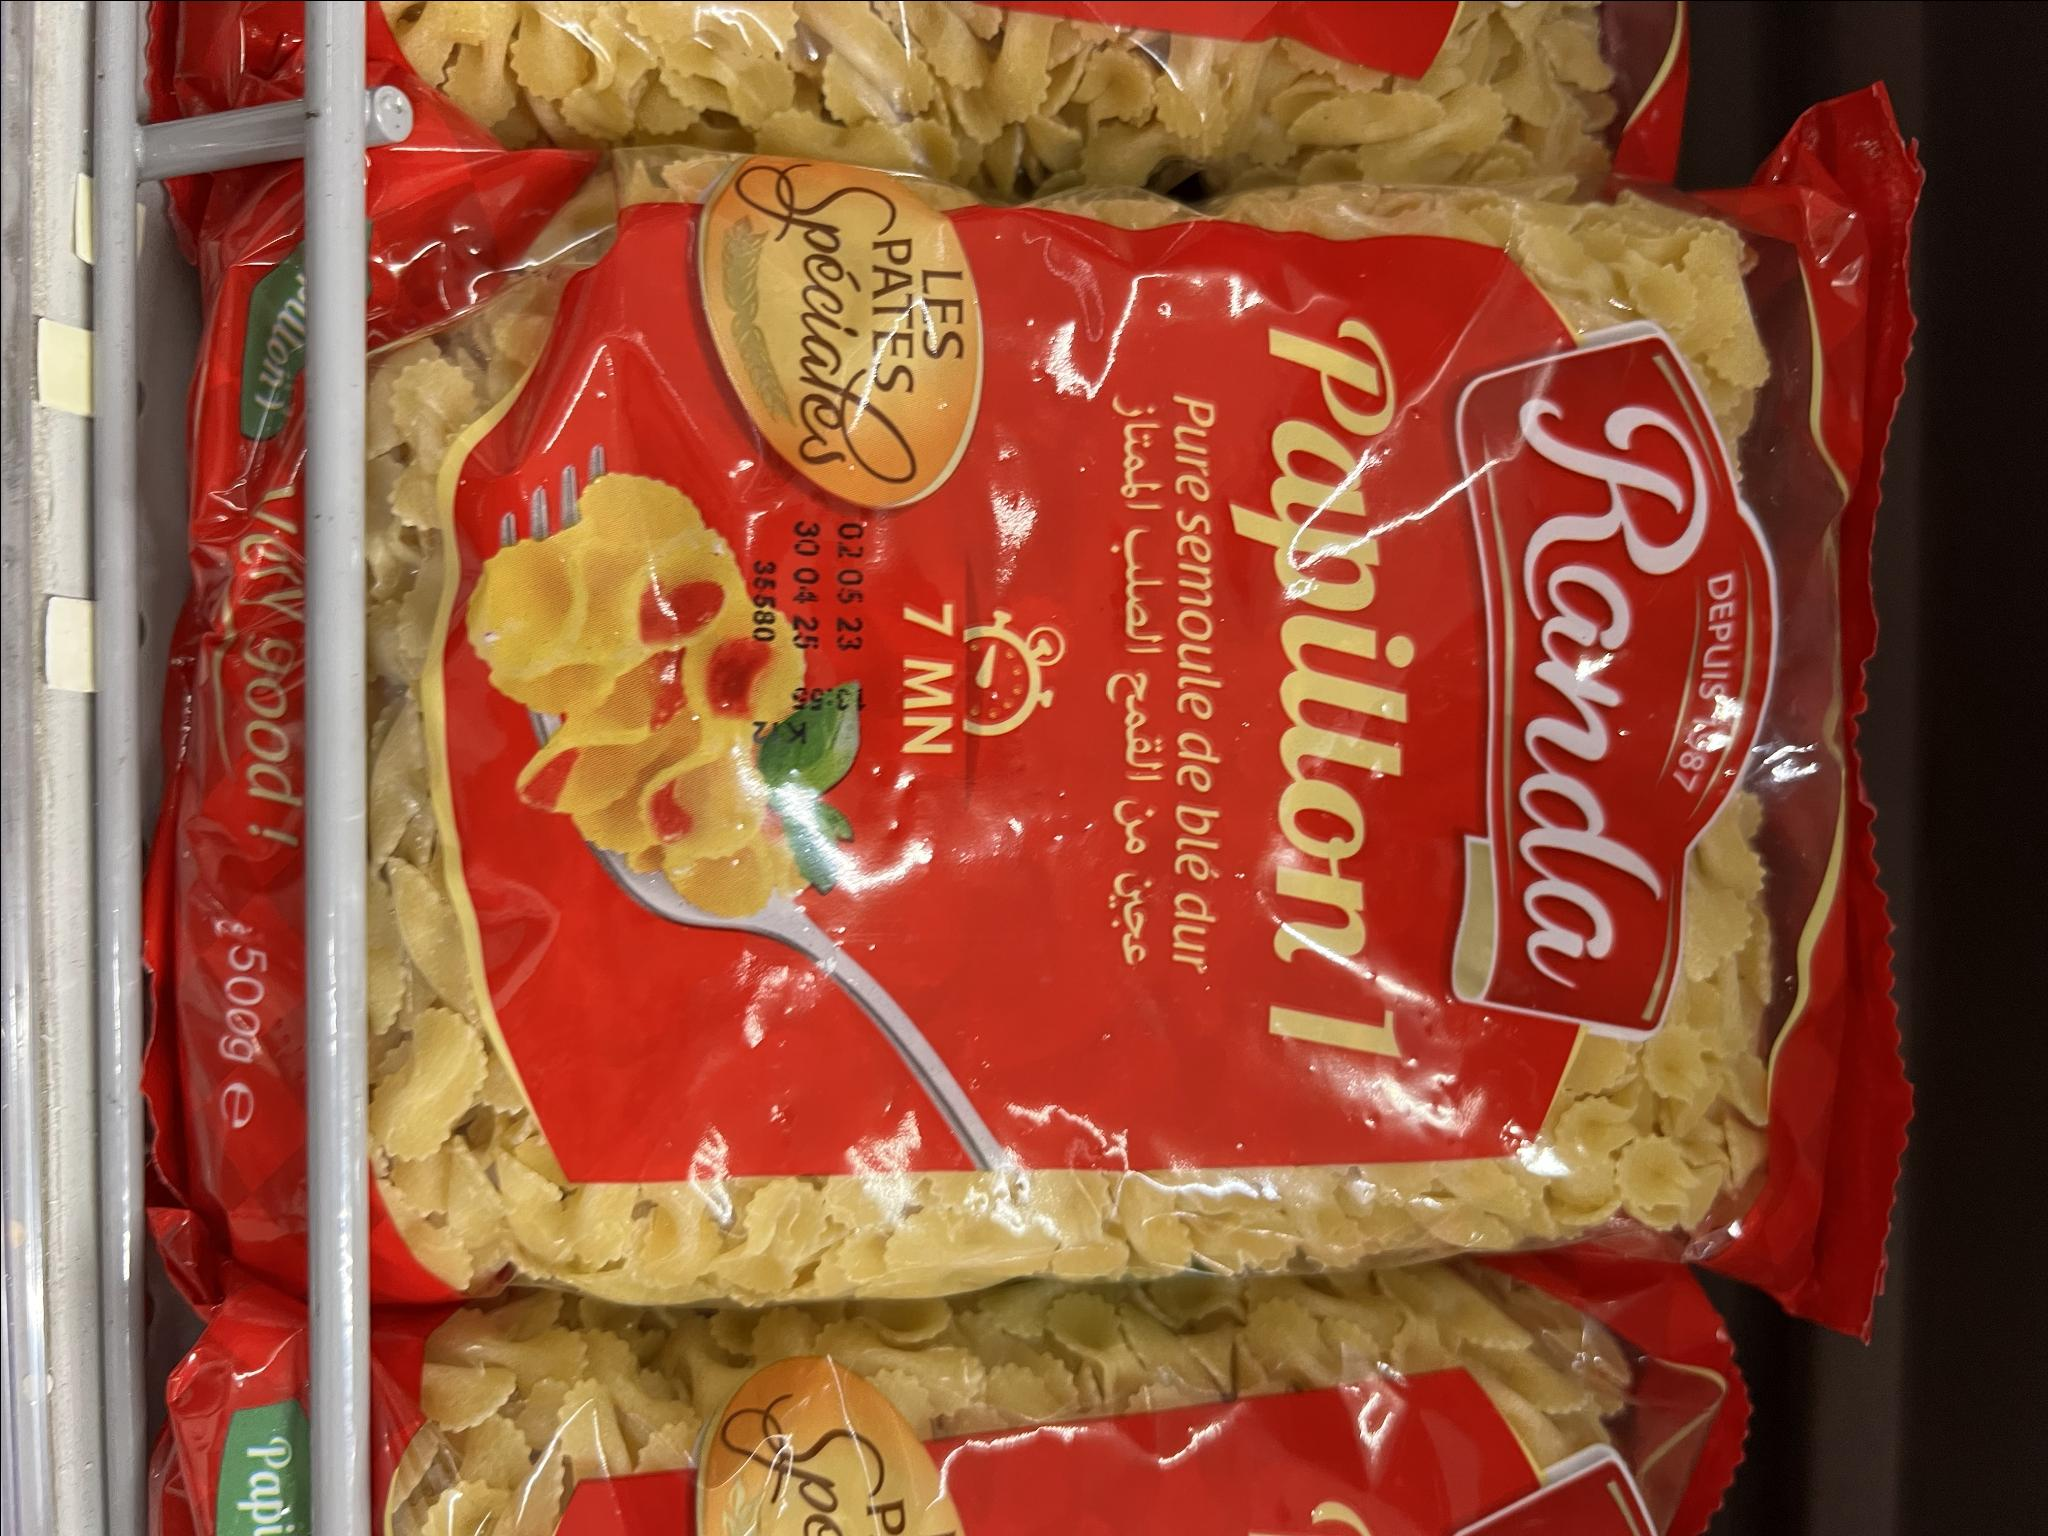Papillon: (381, 181, 1848, 1254), (216, 1294, 1666, 1523), (266, 3, 1624, 153)
